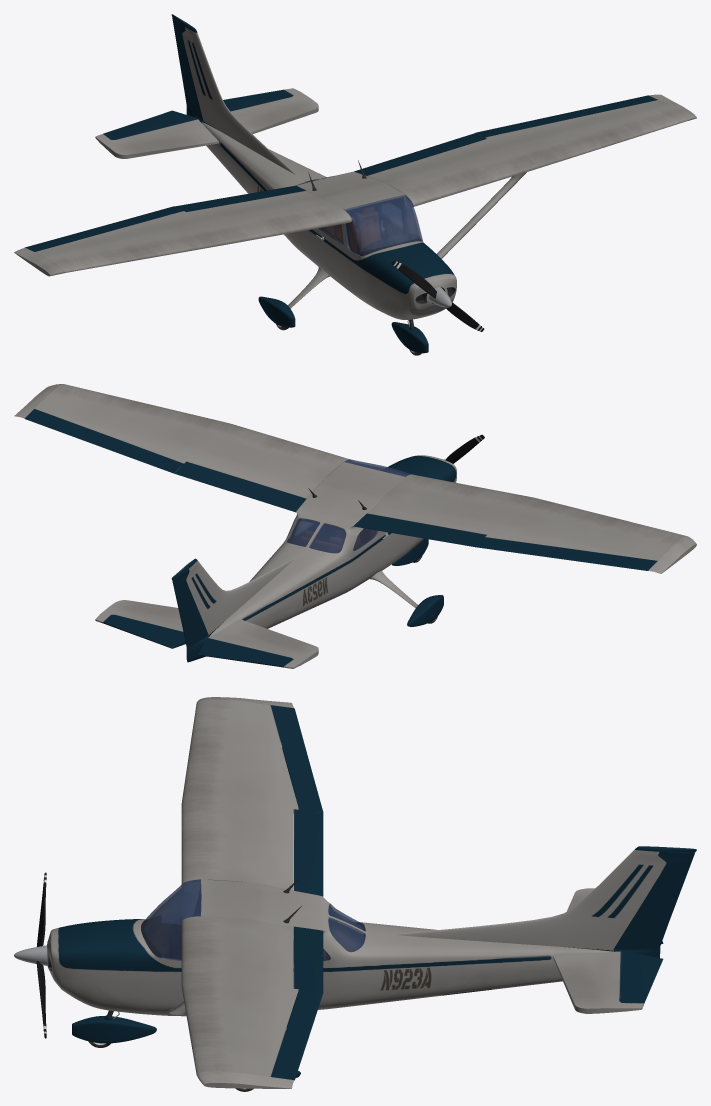
Rendered from Cessna172SP.obj.
3 views of the same model, one above another, from view 1: azimuth 30°, elevation 25°; view 2: azimuth 150°, elevation 25°; view 3: azimuth 270°, elevation 25° (orthographic). The views are drawn at different scales.
Parts seen in each view (by area): view 1: Plane.005, Plane.025, Plane.009, Plane.016, Plane.002, Plane.021, Plane.020, Plane.010, Plane.014, Plane.006, Plane.004, Plane.038 (+6 smaller); view 2: Plane.005, Plane.025, Plane.021, Plane.020, Plane.009, Plane.002, Plane.010, Plane.016, Plane.004, Plane.014, Cube.001, Cube.005; view 3: Plane.005, Plane.025, Plane.002, Plane.021, Plane.020, Plane.016, Plane.009, Plane.004, Plane.010, Cube.003, Plane.026, Plane (+2 smaller).
Boxes of the visible parts, x1=… form: Plane.005: x1=14, y1=94, x2=696, y2=276; Plane.025: x1=202, y1=122, x2=454, y2=319; Plane.009: x1=95, y1=88, x2=318, y2=158; Plane.016: x1=296, y1=175, x2=422, y2=256; Plane.002: x1=182, y1=27, x2=296, y2=175; Plane.021: x1=25, y1=95, x2=657, y2=251; Plane.020: x1=175, y1=133, x2=486, y2=211; Plane.010: x1=103, y1=89, x2=293, y2=139; Plane.014: x1=315, y1=224, x2=352, y2=291; Plane.006: x1=408, y1=274, x2=456, y2=315; Plane.004: x1=172, y1=17, x2=208, y2=124; Plane.038: x1=334, y1=211, x2=379, y2=251; Plane.005: x1=14, y1=384, x2=696, y2=573; Plane.025: x1=210, y1=456, x2=456, y2=636; Plane.021: x1=24, y1=409, x2=657, y2=570; Plane.020: x1=174, y1=461, x2=486, y2=546; Plane.009: x1=95, y1=600, x2=318, y2=668; Plane.002: x1=186, y1=556, x2=296, y2=634; Plane.010: x1=102, y1=614, x2=293, y2=667; Plane.016: x1=287, y1=459, x2=410, y2=553; Plane.004: x1=172, y1=569, x2=209, y2=662; Plane.014: x1=379, y1=531, x2=411, y2=570; Cube.001: x1=407, y1=595, x2=443, y2=626; Cube.005: x1=301, y1=531, x2=341, y2=552; Plane.005: x1=181, y1=697, x2=320, y2=1088; Plane.025: x1=58, y1=879, x2=612, y2=1016; Plane.002: x1=391, y1=849, x2=666, y2=950; Plane.021: x1=270, y1=705, x2=323, y2=1080; Plane.020: x1=294, y1=809, x2=323, y2=991; Plane.016: x1=141, y1=879, x2=365, y2=962; Plane.009: x1=553, y1=888, x2=643, y2=1013; Plane.004: x1=613, y1=851, x2=695, y2=957; Plane.010: x1=619, y1=941, x2=663, y2=1003; Cube.003: x1=72, y1=1016, x2=156, y2=1043; Plane.026: x1=162, y1=888, x2=609, y2=960; Plane: x1=36, y1=872, x2=46, y2=1038.
Bounding box in the file's own units: 3.69 × 0.8967 × 2.76.
25 materials, 12 textured.
